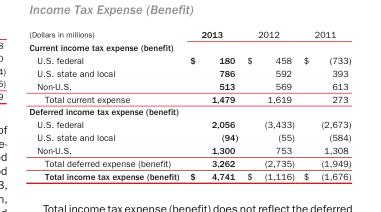table: (28, 28, 350, 181)
table column: (28, 28, 184, 181), (184, 28, 241, 181), (241, 28, 298, 181), (298, 28, 350, 181)
table column header: (28, 28, 350, 40)
table projected row header: (28, 40, 350, 53), (28, 104, 350, 117)
table row: (28, 40, 350, 53), (28, 53, 350, 66), (28, 66, 350, 79), (28, 79, 350, 92), (28, 104, 350, 117), (28, 117, 350, 130), (28, 130, 350, 143), (28, 143, 350, 156), (28, 156, 350, 169), (28, 28, 350, 40), (28, 92, 350, 104), (28, 169, 350, 181)
